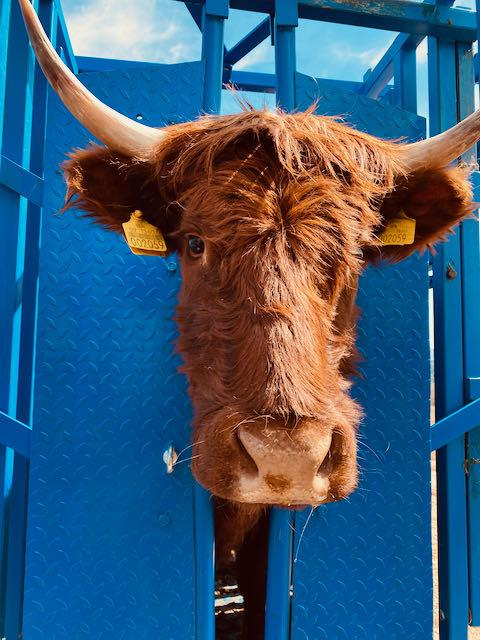muzzles: (182, 415, 360, 515)
